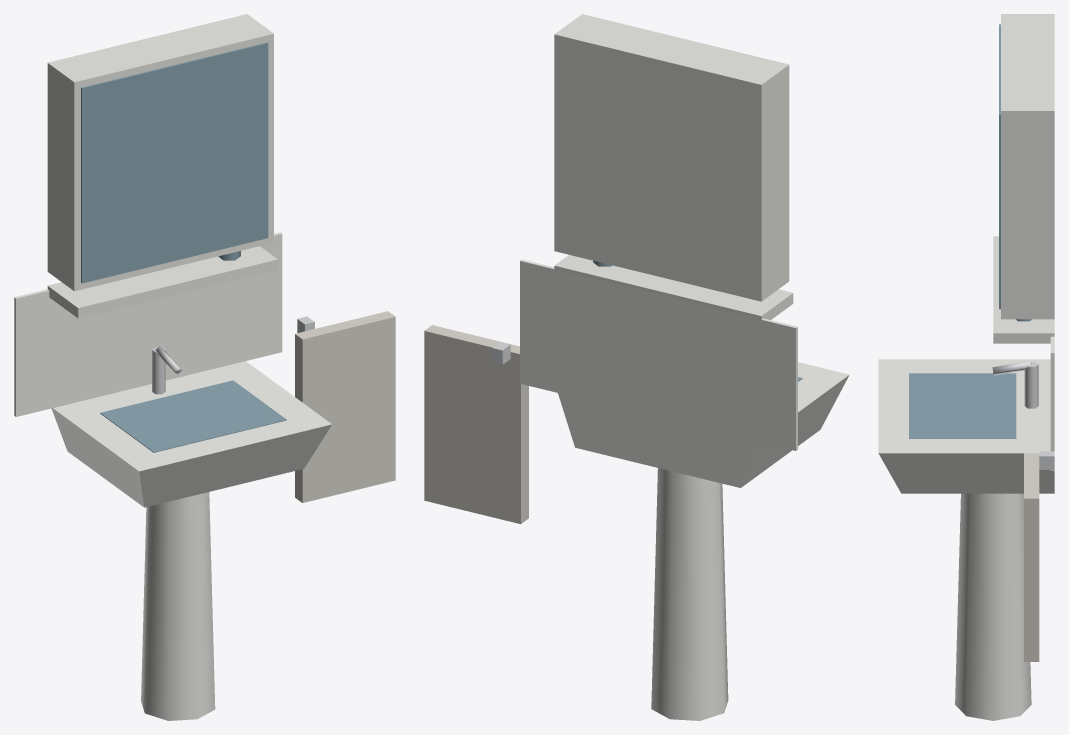
Rendered from basin.glb.
3 renders of one model, left to right at view 1: azimuth 30°, elevation 25°; view 2: azimuth 150°, elevation 25°; view 3: azimuth 270°, elevation 25°, orthographic. The views are drawn at different scales.
Visible parts, largest first — view 1: basin; view 2: basin; view 3: basin.
Boxes of the visible parts, left/top/right/bottom form: basin: left=14, top=14, right=395, bottom=720; basin: left=424, top=14, right=849, bottom=720; basin: left=878, top=14, right=1054, bottom=720.
Size of the model in its own units: 1.1 by 1.85 by 0.46.
Materials: 1 (1 with a texture image).
